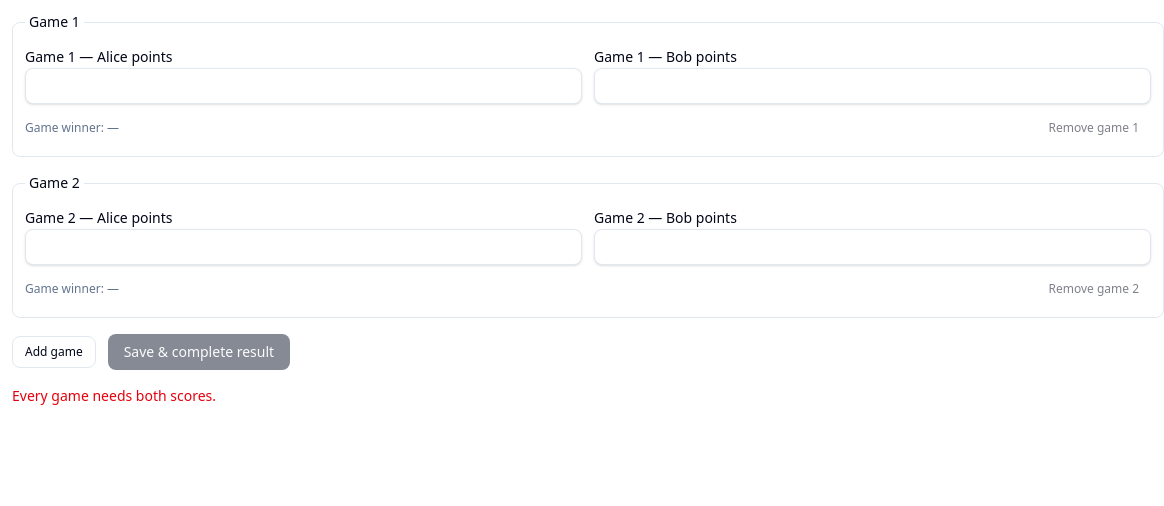
Test case: MatchScoring › surfaces an API error without leaking internals
In the number field labelled "Game 1 — Alice points": (304, 86) [25, 68, 582, 104], type "21"
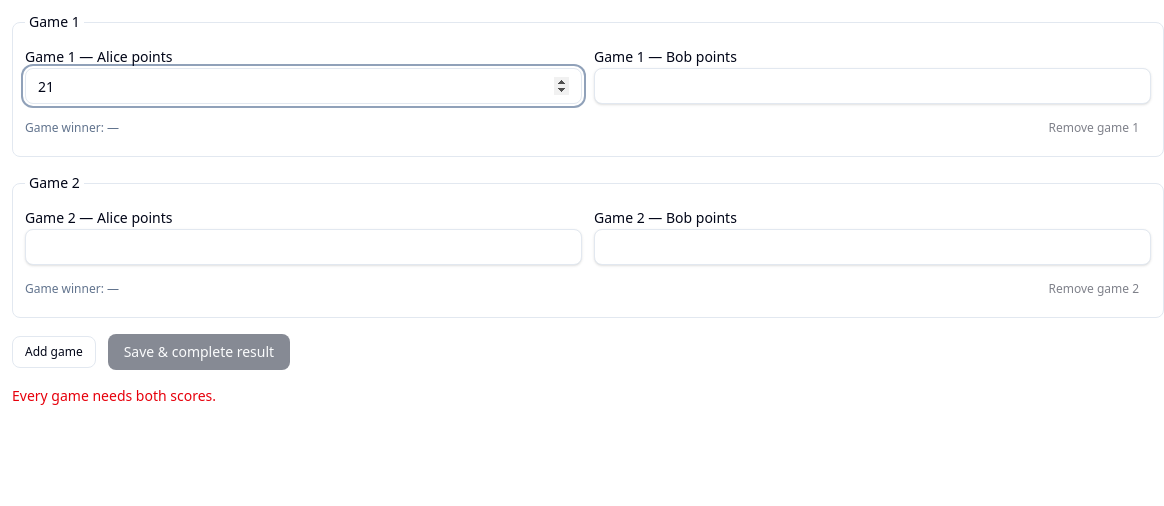
In the number field labelled "Game 1 — Bob points": (872, 86) [594, 68, 1151, 104], type "15"
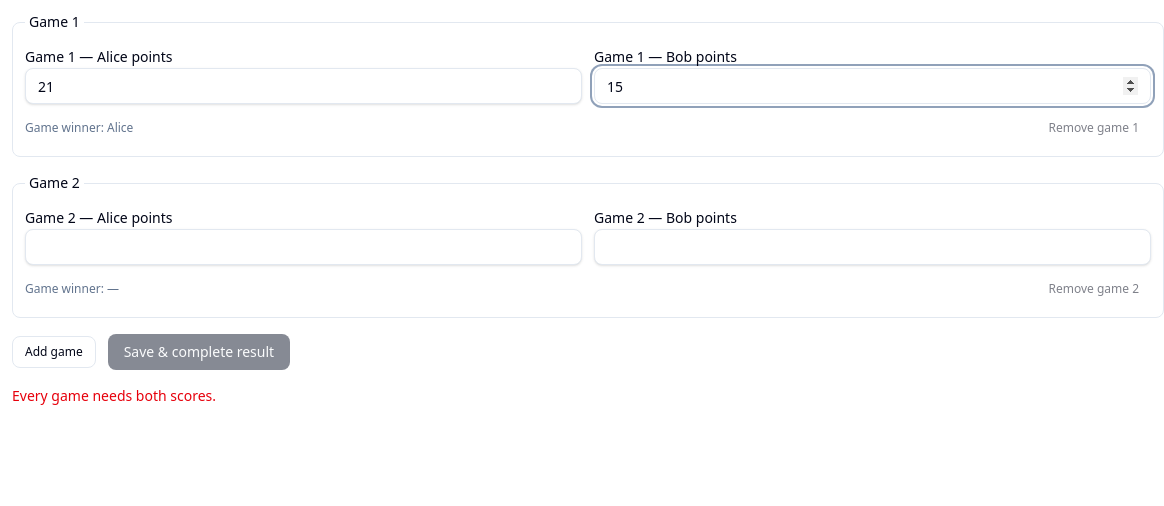
In the number field labelled "Game 2 — Alice points": (304, 247) [25, 229, 582, 265], type "21"
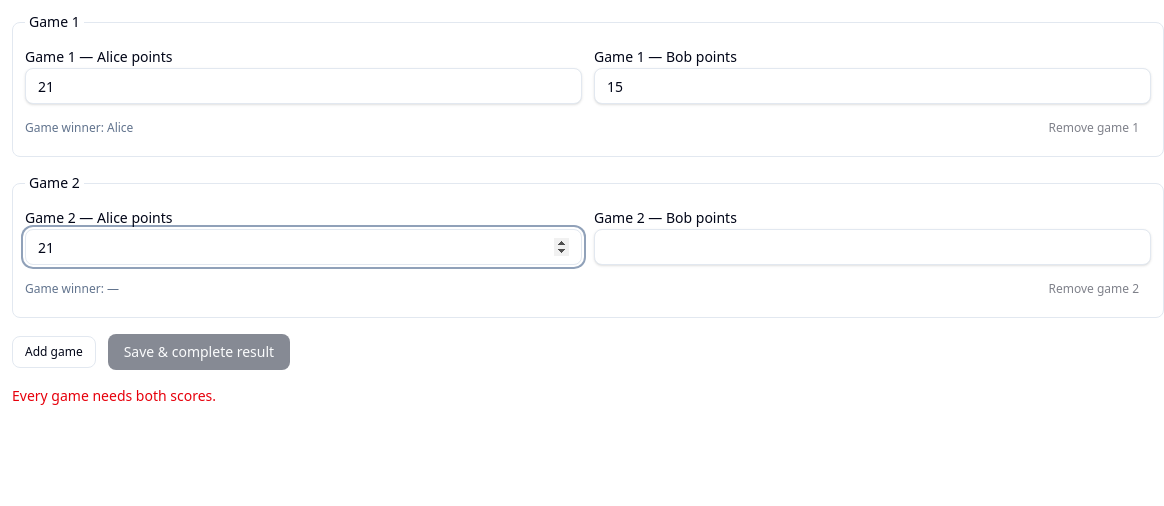
In the number field labelled "Game 2 — Bob points": (872, 247) [594, 229, 1151, 265], type "18"
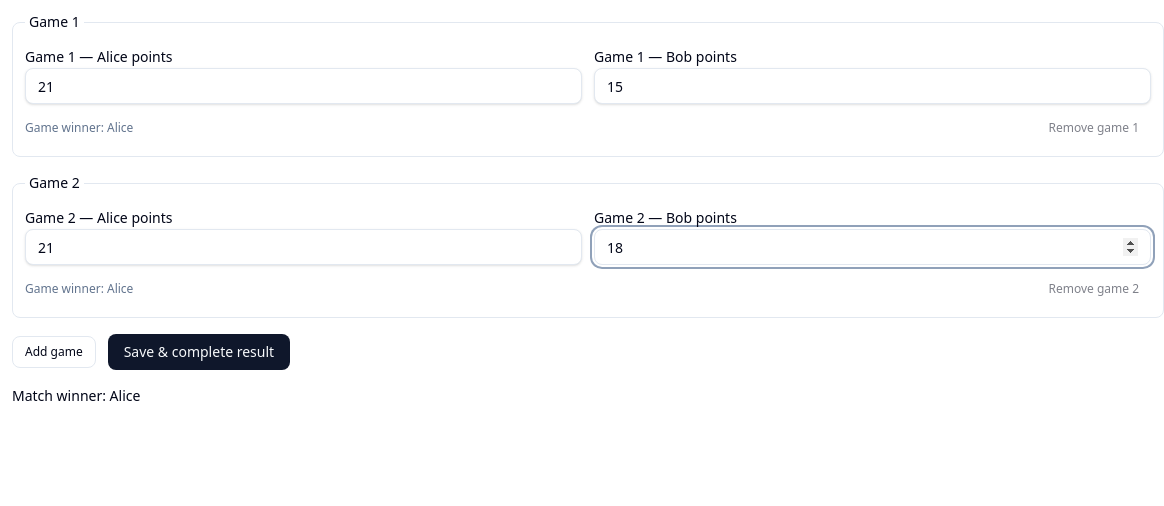
Click the button "Save & complete result": (199, 352) [108, 334, 290, 370]
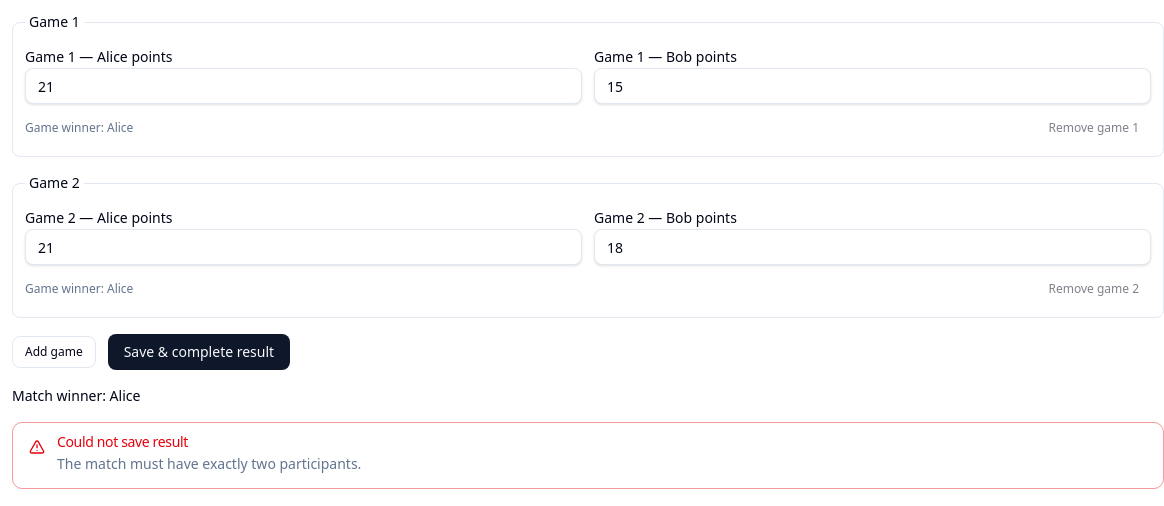
Expected: the text "The match must have exactly two participants." is shown, [57, 454, 361, 473]
